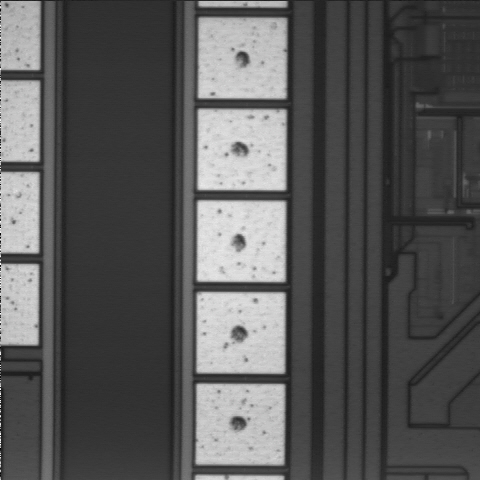pad: (198, 109, 286, 190), (197, 201, 285, 282), (197, 292, 285, 373), (198, 18, 286, 98), (196, 384, 284, 464)
